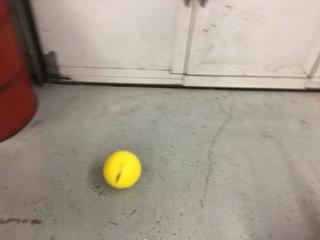power_cell: (100, 149, 148, 193)
